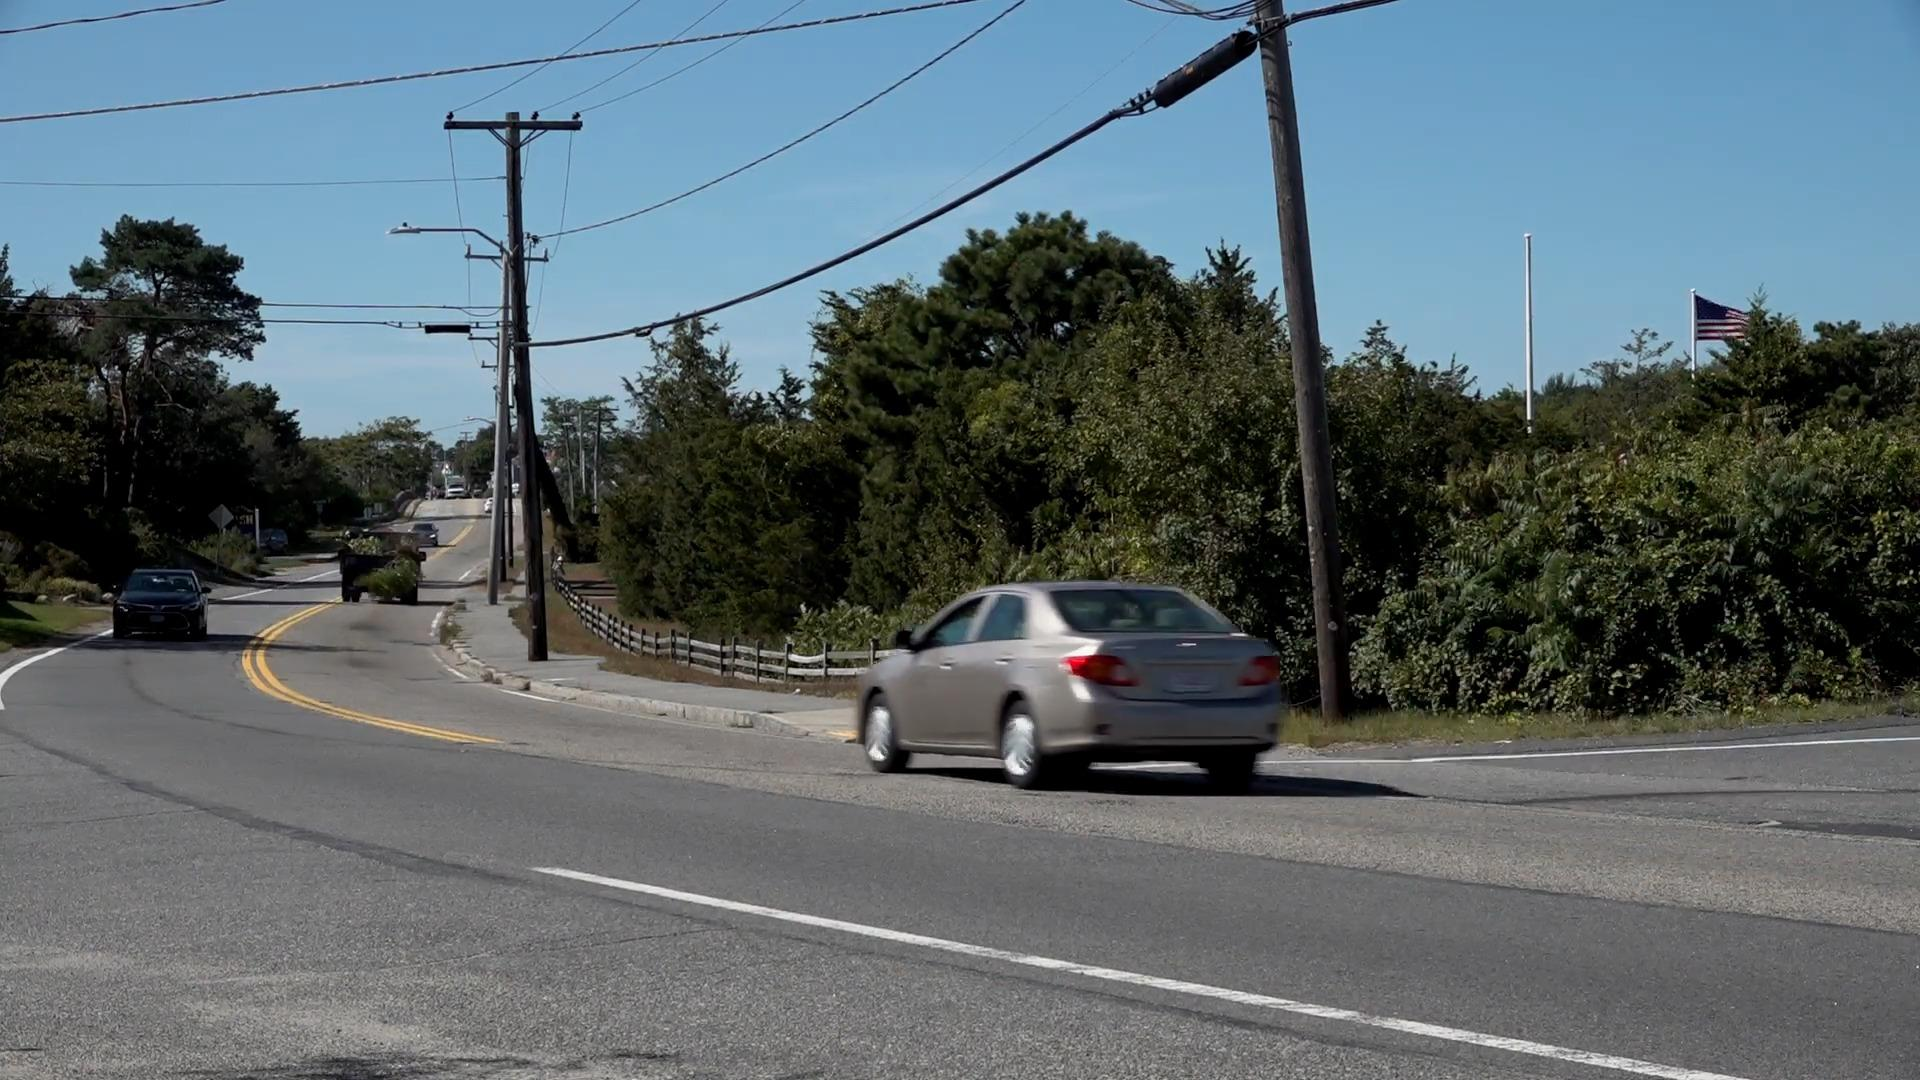sedans: (852, 574, 1288, 789), (113, 568, 212, 640)
